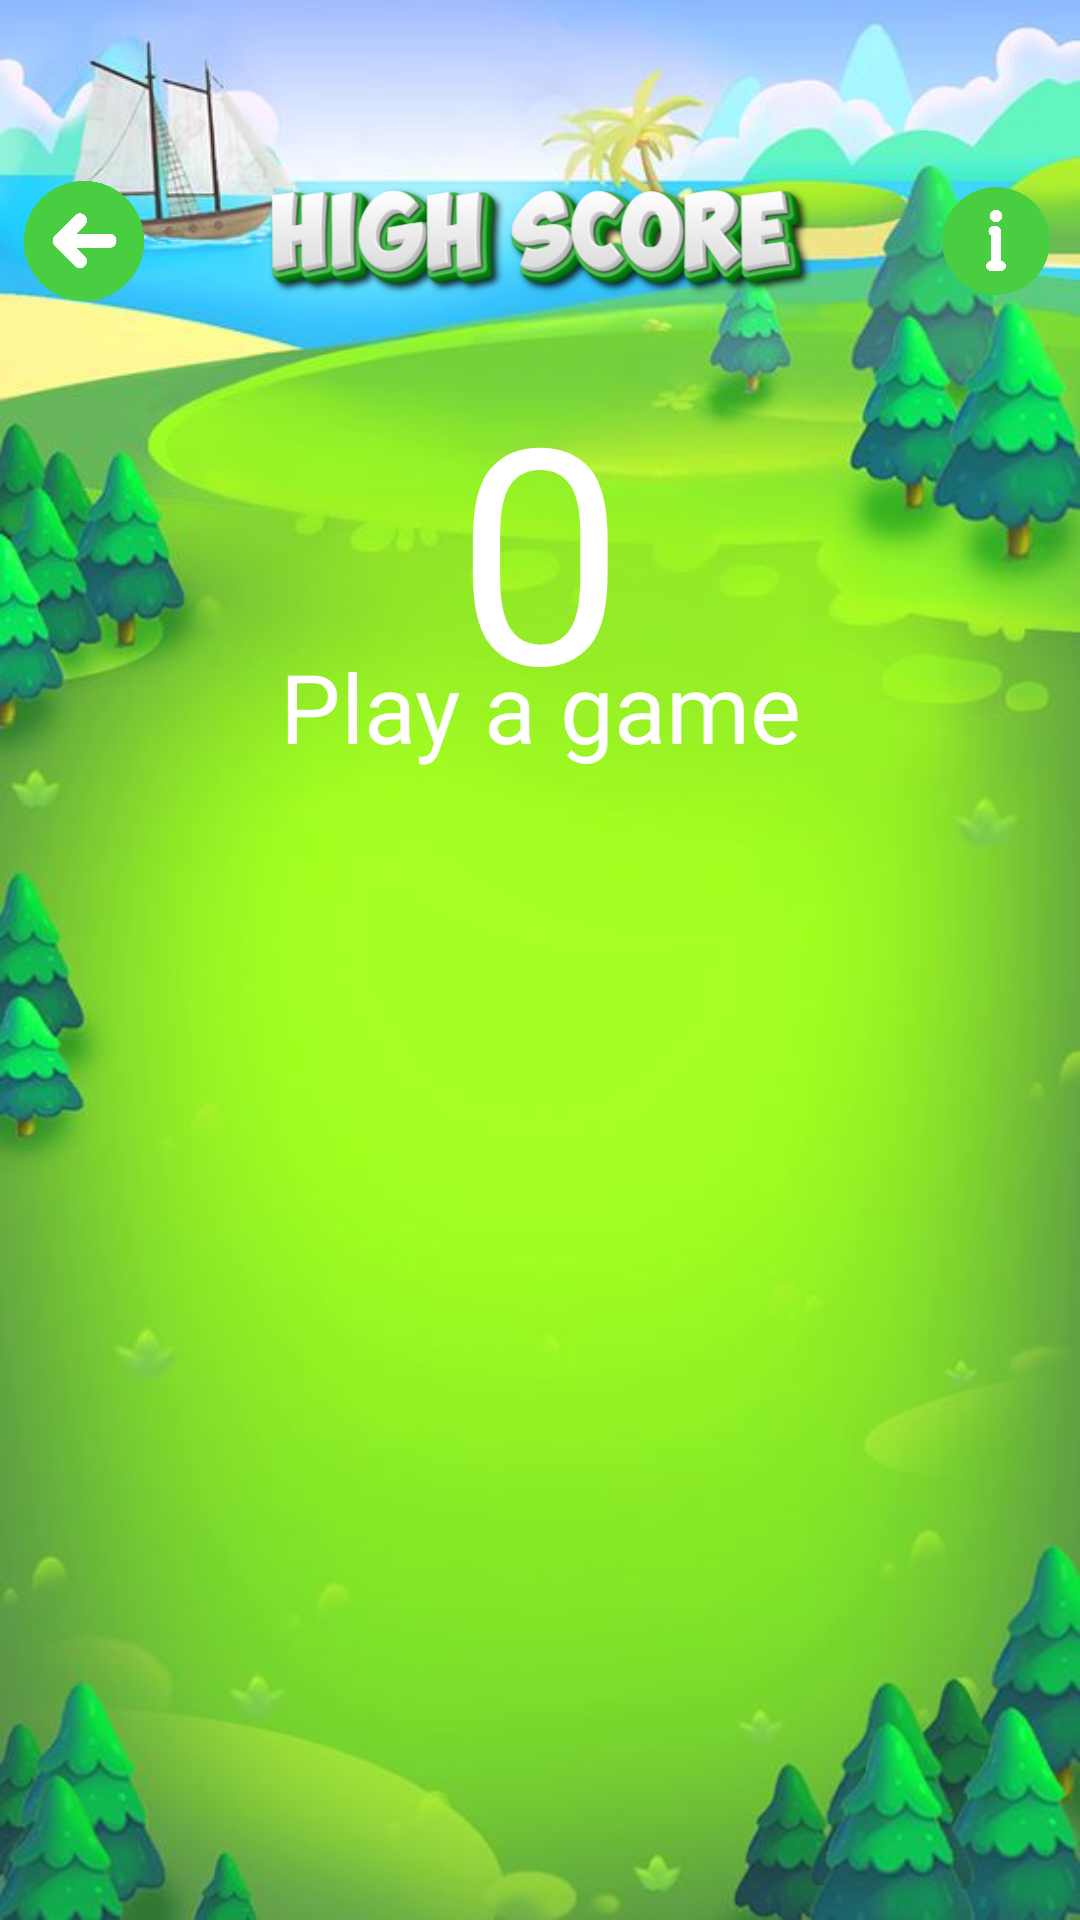

Icons on this 1080px×1920px Android screen, each with the point to tap as point (x, y):
back: point (84, 241)
info: point (996, 241)
